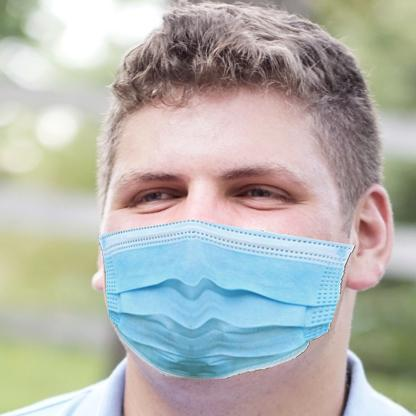mask: (95, 220, 354, 381)
